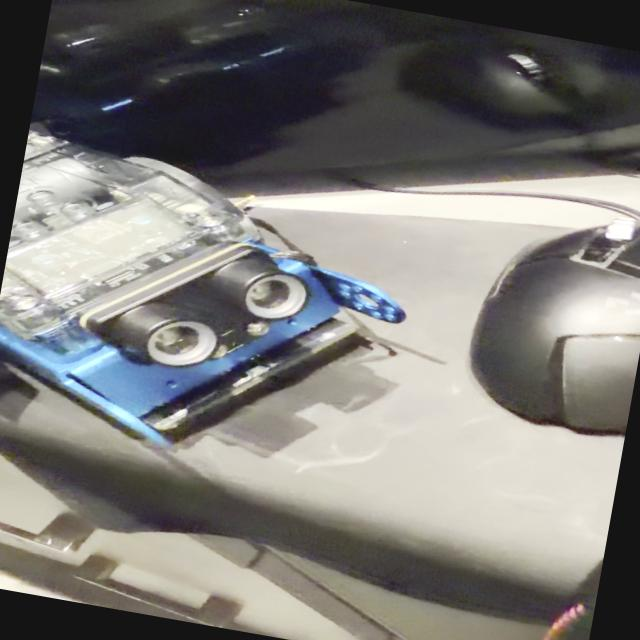mbot-detection: (0, 121, 432, 493)
